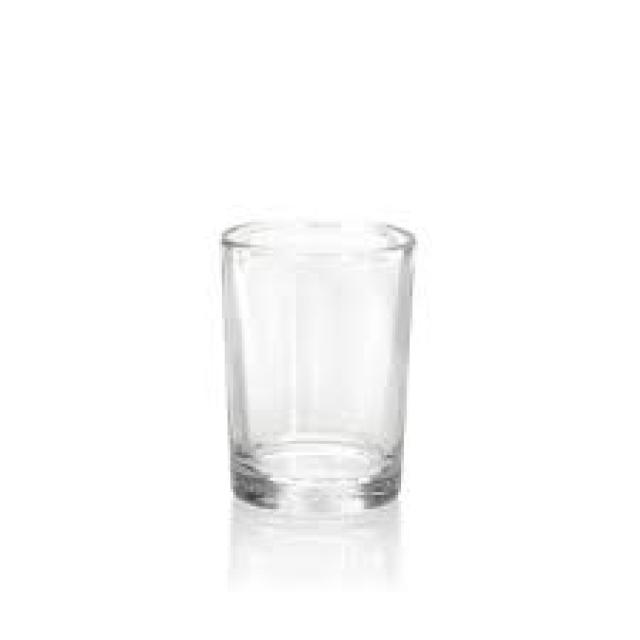Dry Waste: (203, 212, 424, 524)
